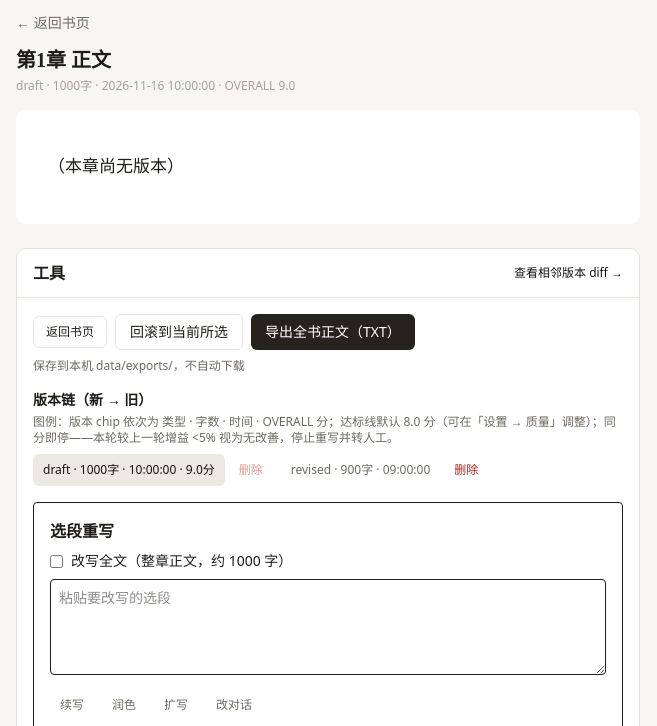
it: ChapterReaderPage › 删除非 current 版本：确认簇 → 发 DELETE → 行消失且高亮回到 current 版本
The width and height of the screenshot is (657, 726).
Click the 2nd button "删除" at (466, 470), box [444,454,488,486]
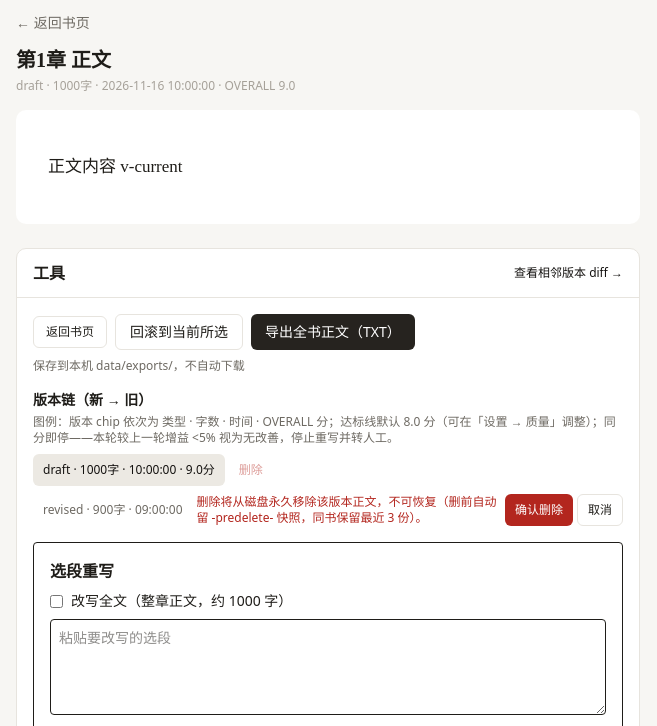
expect the text "删除将从磁盘永久移除该版本正文，不可恢复（删前自动留 -predelete- 快照，同书保留最近 3 份）。" is shown: met, box [196,494,501,526]
Click the button "确认删除" at (539, 510), box [505,494,573,526]
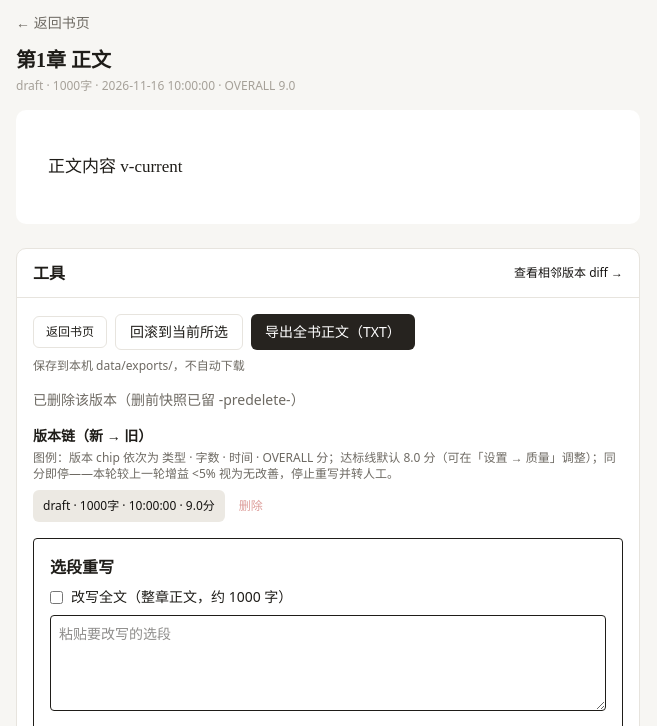
expect the button "draft · 1000字 · 10:00:00 · 9.0分" is shown: met, box [33,490,225,522]
expect the number of buttons "draft · 1000字 · 10:00:00 · 9.0分" is 1: met, box [33,490,225,522]
